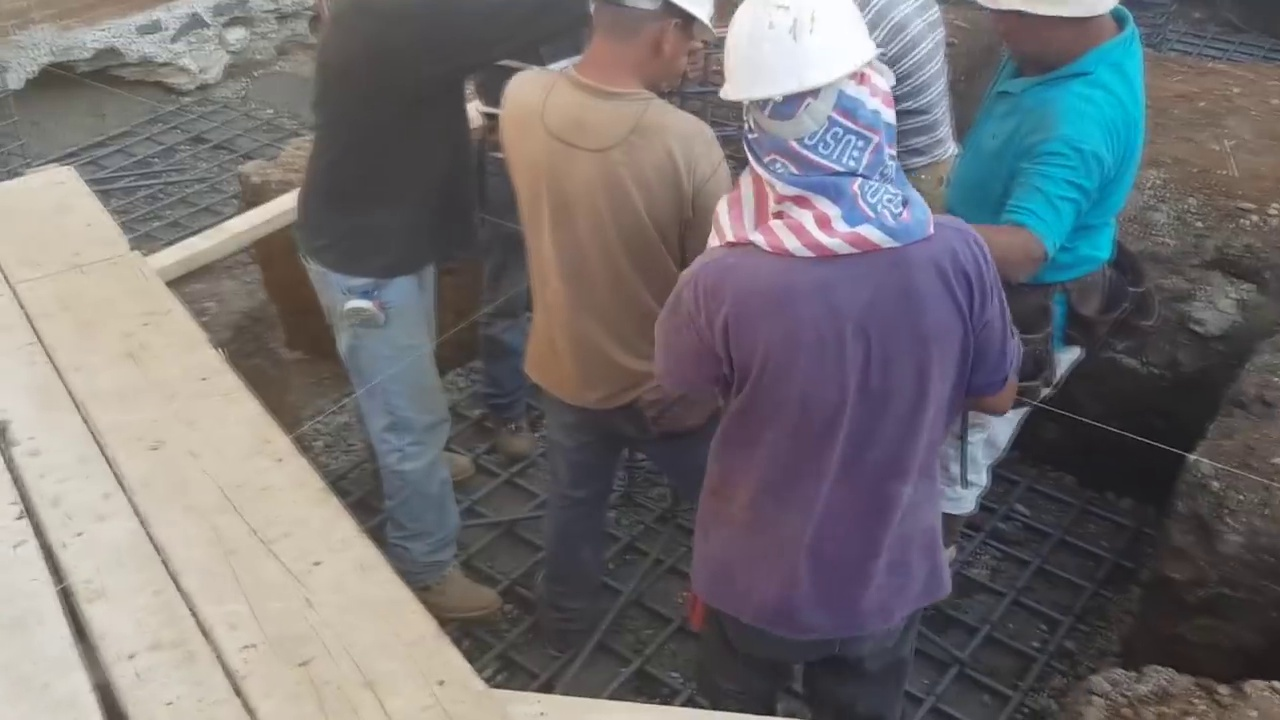helmet: (719, 0, 880, 113)
helmet-off: (996, 5, 1111, 73)
helmet-on: (713, 1, 927, 254)
person: (635, 0, 1006, 720), (509, 0, 729, 663), (295, 5, 519, 623), (920, 0, 1155, 571), (866, 0, 962, 202)
